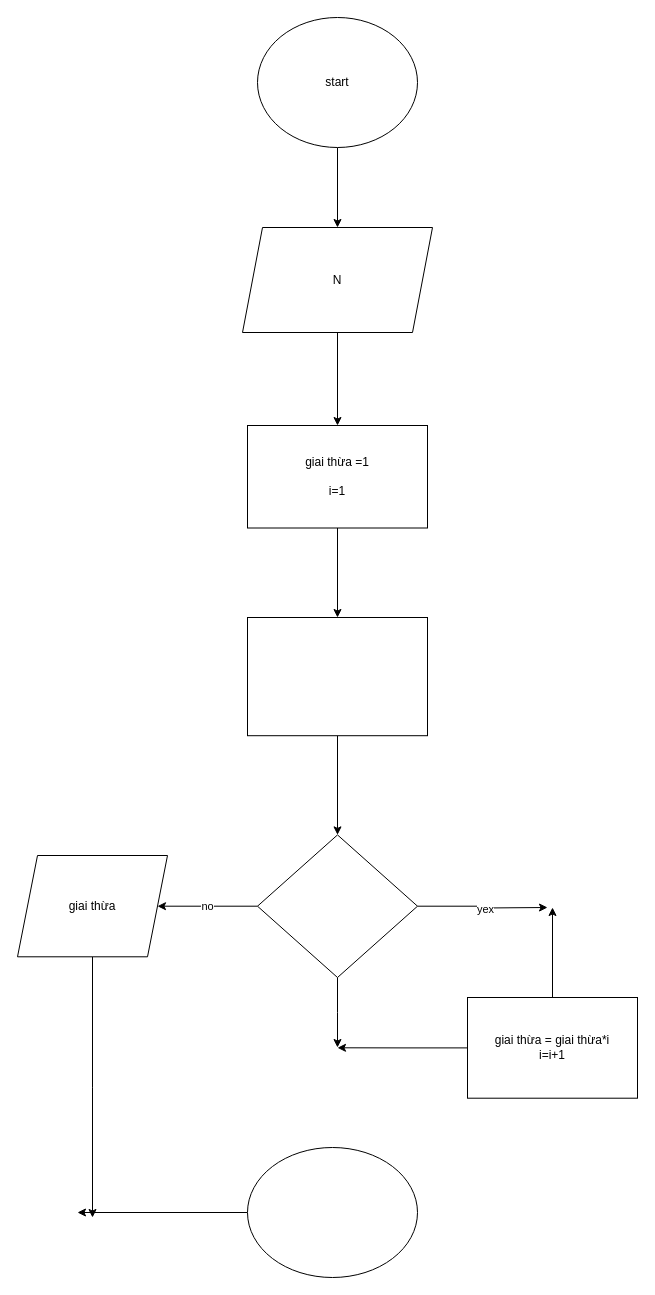
Image size: 655x1295. Some labels were removed from this diagram. Each missing label, with the box of its shape:
end: (246, 1146, 418, 1278)
i<=1: (256, 834, 418, 978)
kiểm tra nhanh: (246, 616, 428, 736)
